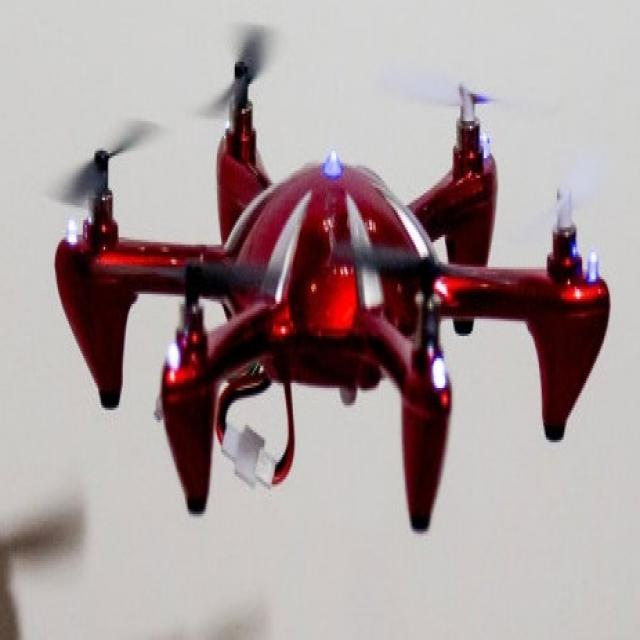drone: (23, 19, 627, 544)
